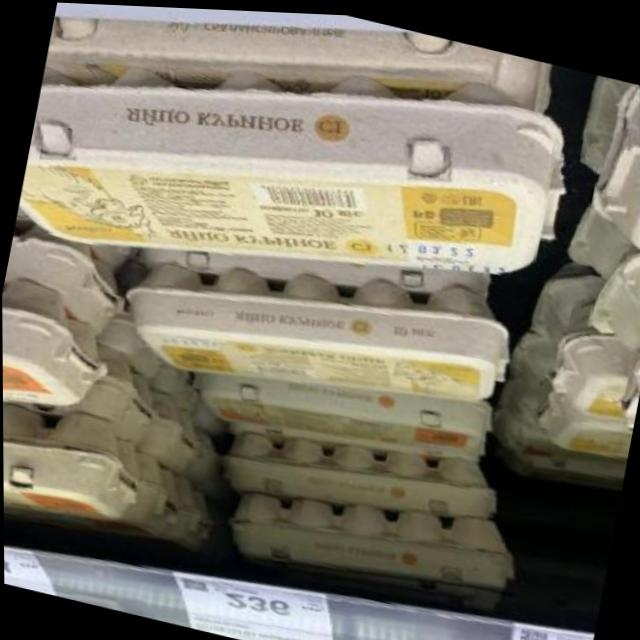Egg: (9, 0, 614, 370), (97, 202, 537, 458), (190, 331, 505, 486), (2, 269, 124, 429)
